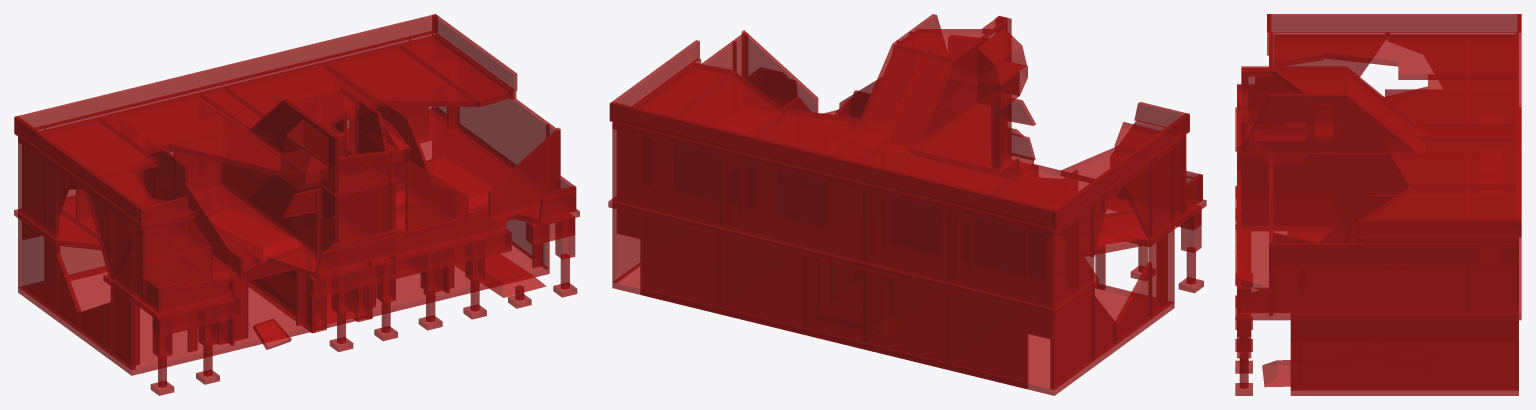
The model's file is SM_Bld_Shop_06_Destroyed_Collision.fbx.
The picture shows the model from 3 angles, left to right: view 1: azimuth 30°, elevation 25°; view 2: azimuth 150°, elevation 25°; view 3: azimuth 270°, elevation 25°; orthographic projection. The views are drawn at different scales.
Visible parts, largest first — view 1: SM_Bld_Shop_06_Destroyed_Collision; view 2: SM_Bld_Shop_06_Destroyed_Collision; view 3: SM_Bld_Shop_06_Destroyed_Collision.
Part boxes in pixels (left/top/right/bottom): SM_Bld_Shop_06_Destroyed_Collision: left=14, top=14, right=579, bottom=395; SM_Bld_Shop_06_Destroyed_Collision: left=608, top=14, right=1206, bottom=395; SM_Bld_Shop_06_Destroyed_Collision: left=1235, top=14, right=1521, bottom=395.
Bounding box in the file's own units: 2147 × 1036 × 1255.
